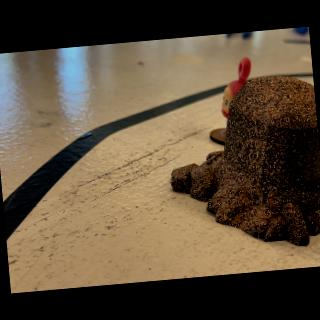teletubby: (221, 57, 251, 118)
